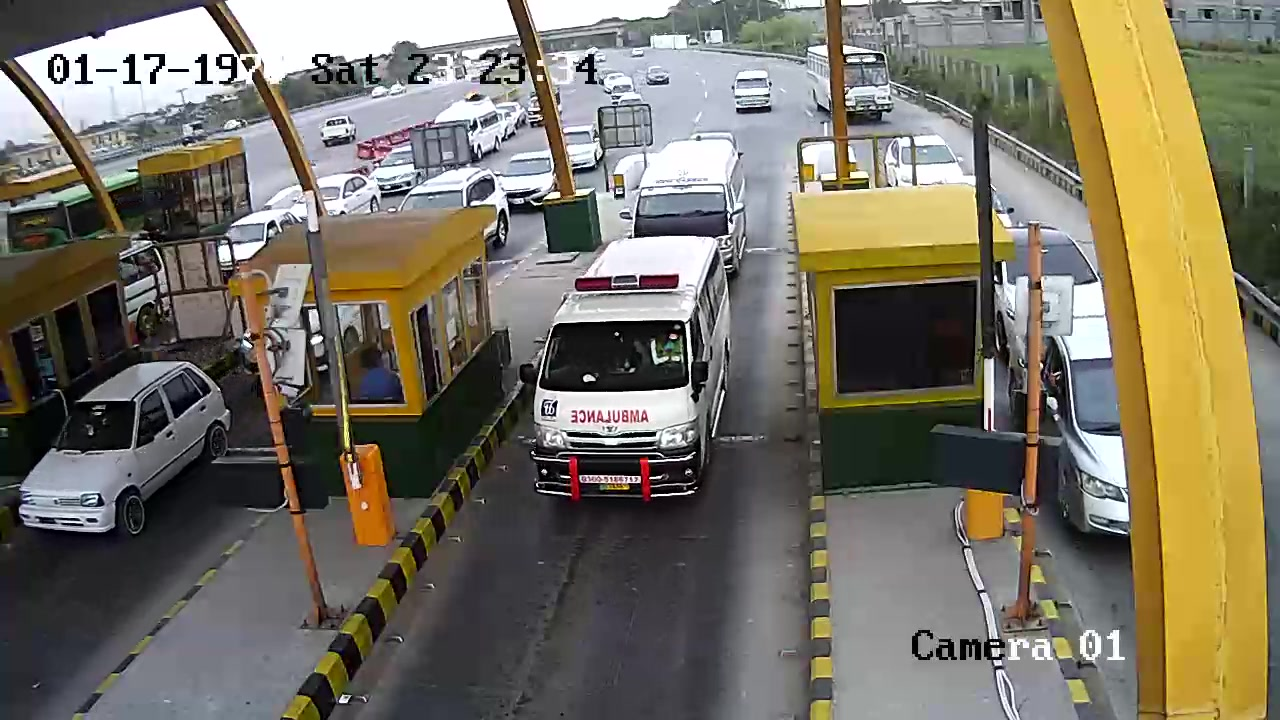F3: (529, 230, 732, 513)
